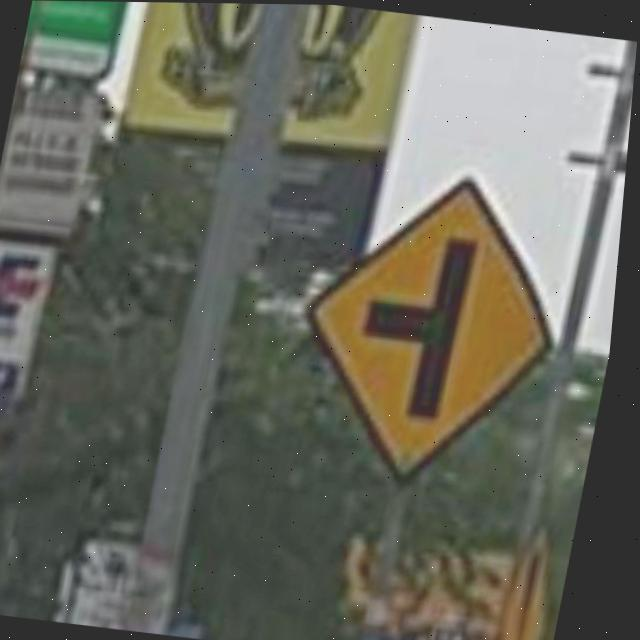Persimpangan 3 Sisi Kiri: (311, 175, 569, 486)
